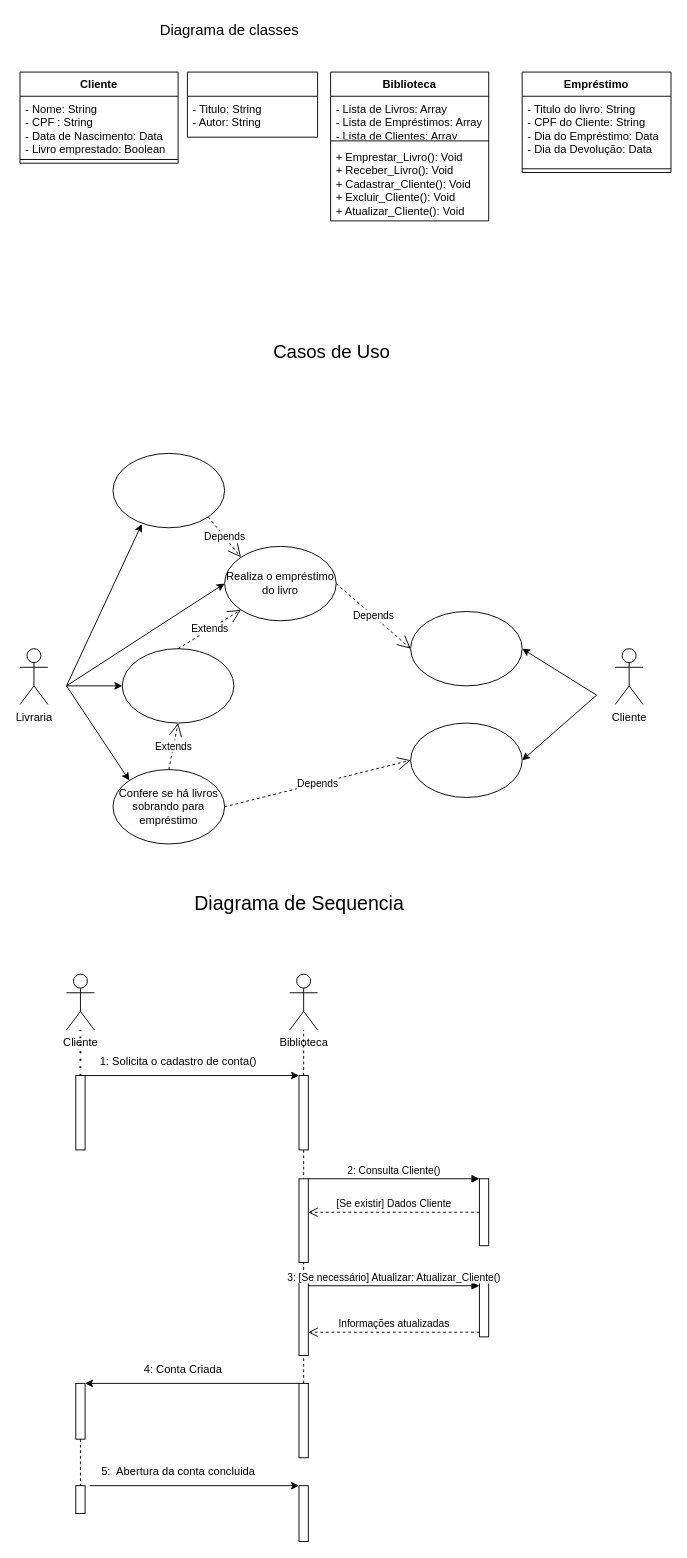
Image size: 687x1558. Some labels were removed from this diagram. The shapes that lost their labels are listed below. From the top down, each one's box as (x1, y1, x2, y2) in pixels, then its label:
(186, 71, 318, 137): Livro
(112, 452, 225, 528): Confere se o pagamento foi efetuado
(410, 611, 522, 686): Realiza o cadastro na livraria
(121, 648, 234, 723): Confere as informações do cliente
(410, 722, 522, 797): Escolhe o livro a ser emprestado
